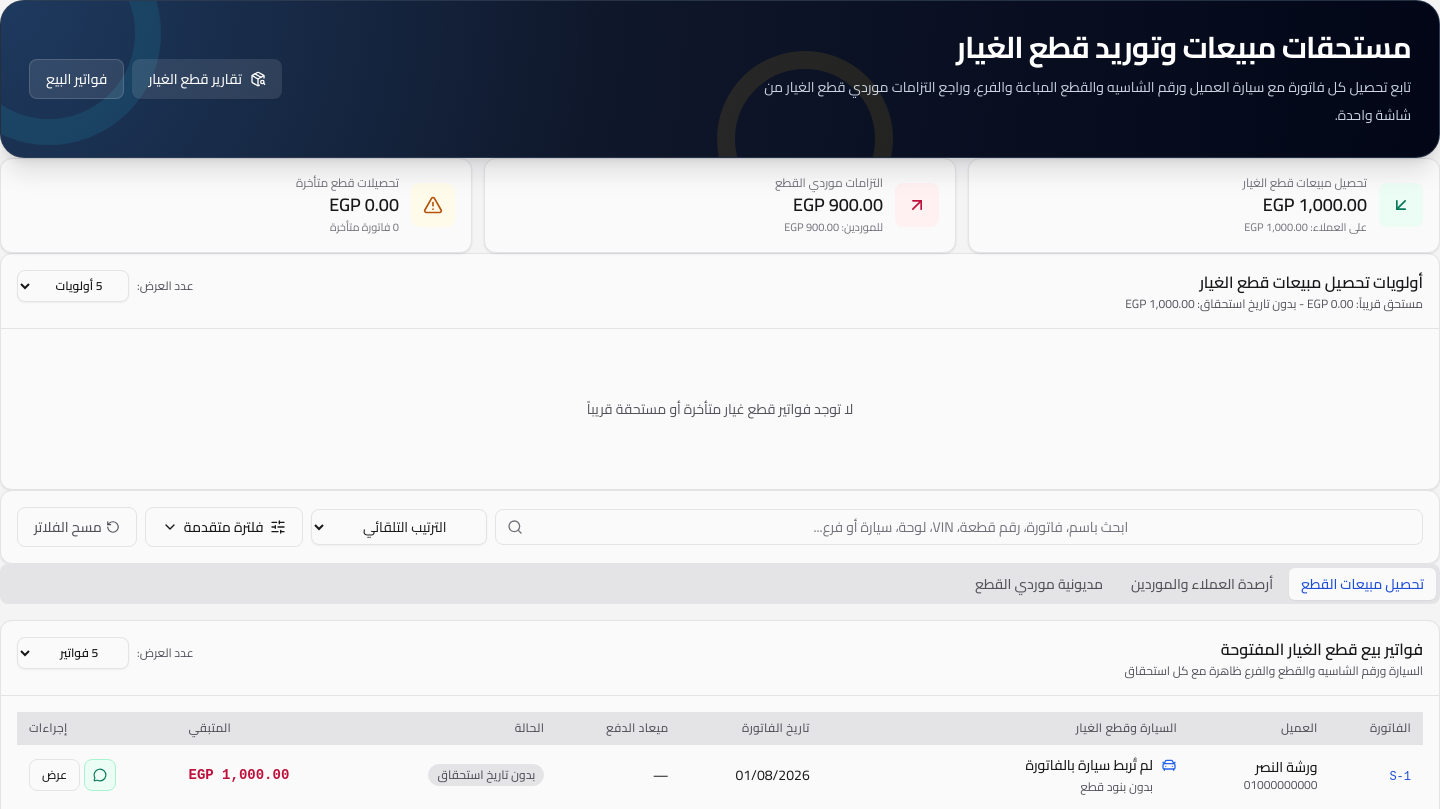
Test: settling a balance asks first — TC-DUES-SETTLE › TC-DUES-SETTLE-005: Escape settles nothing
Click the button "أرصدة العملاء والموردين": (1202, 584) [1119,568,1285,600]
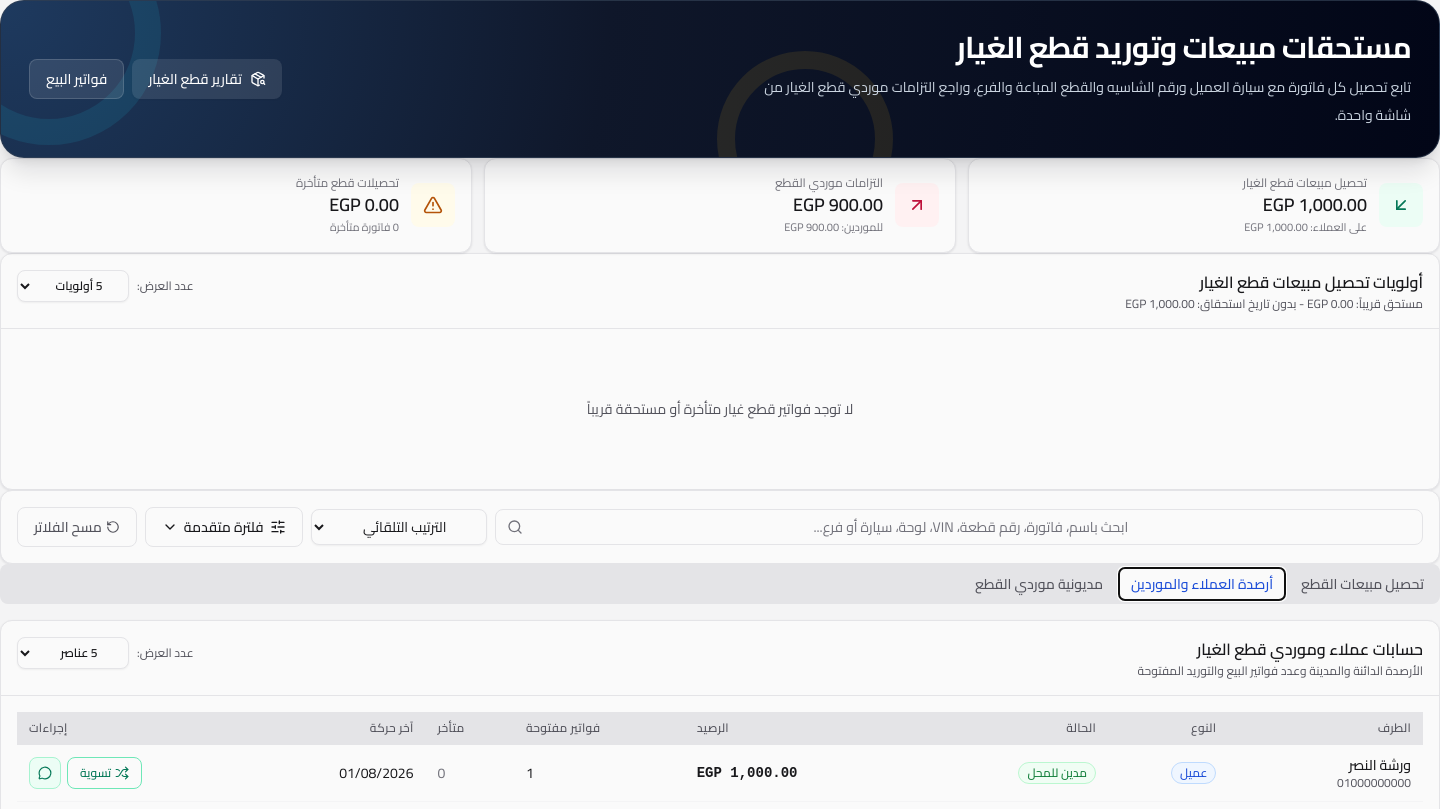
Click the button "تسوية": (105, 772) [67,756,142,788]
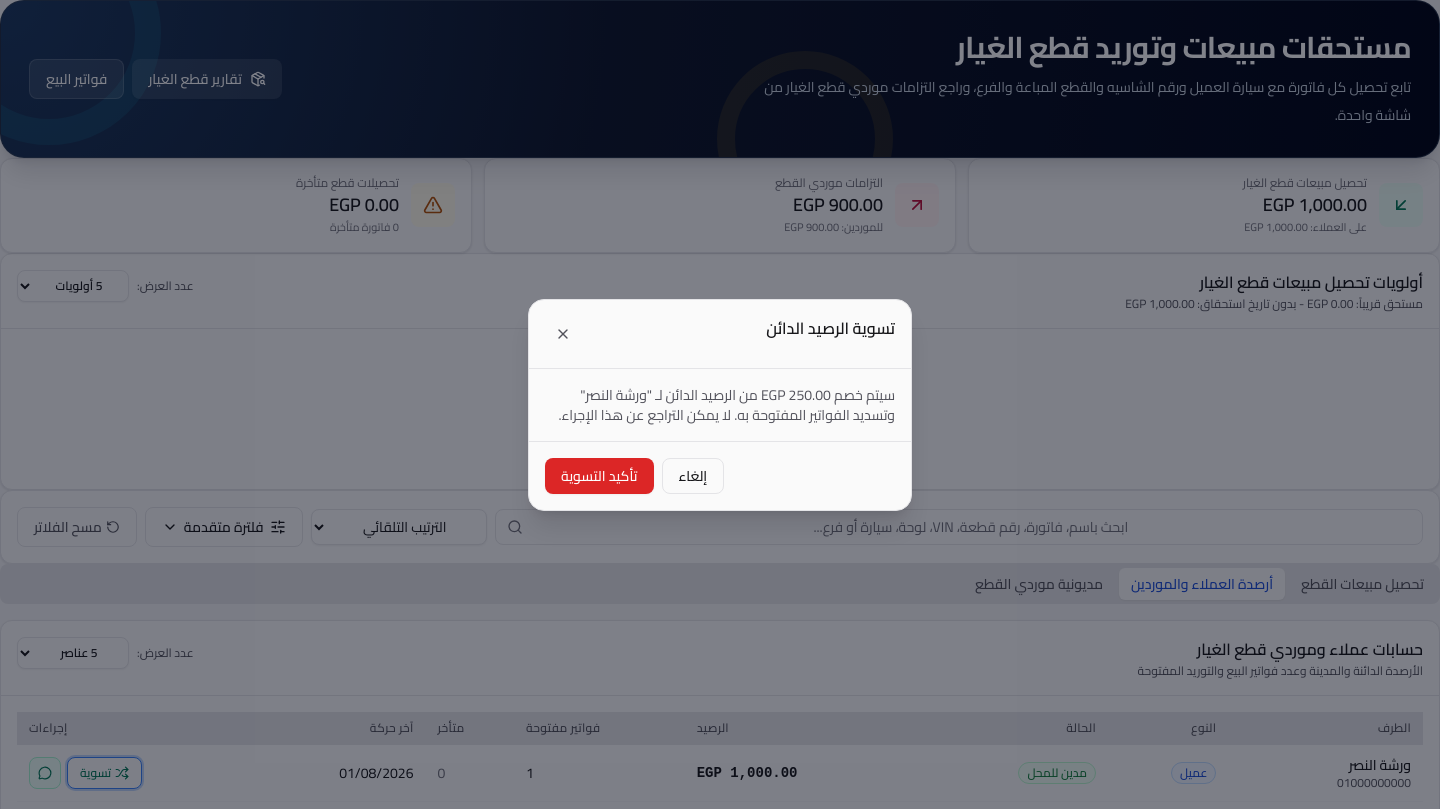
Press Escape
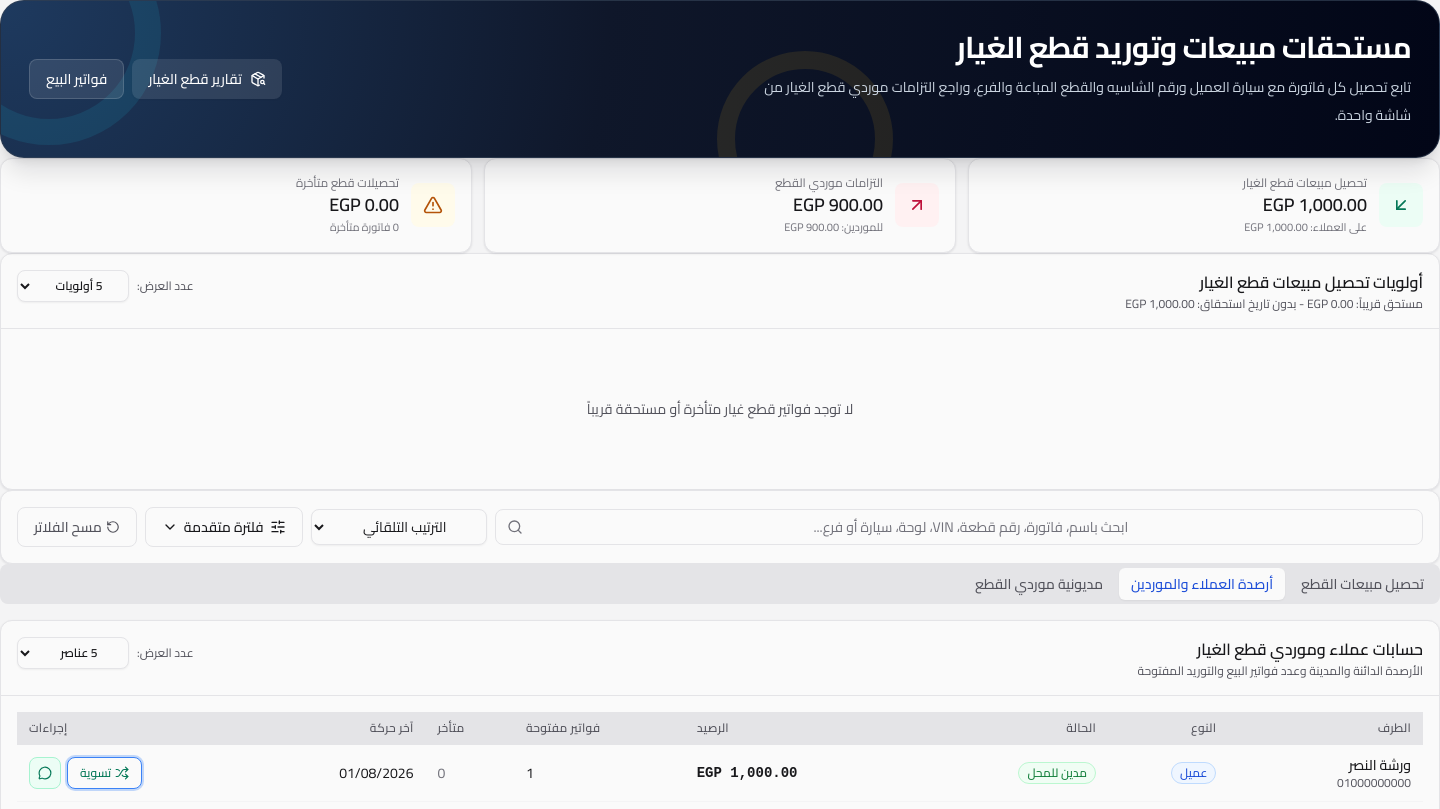
Result: the dialog is gone
